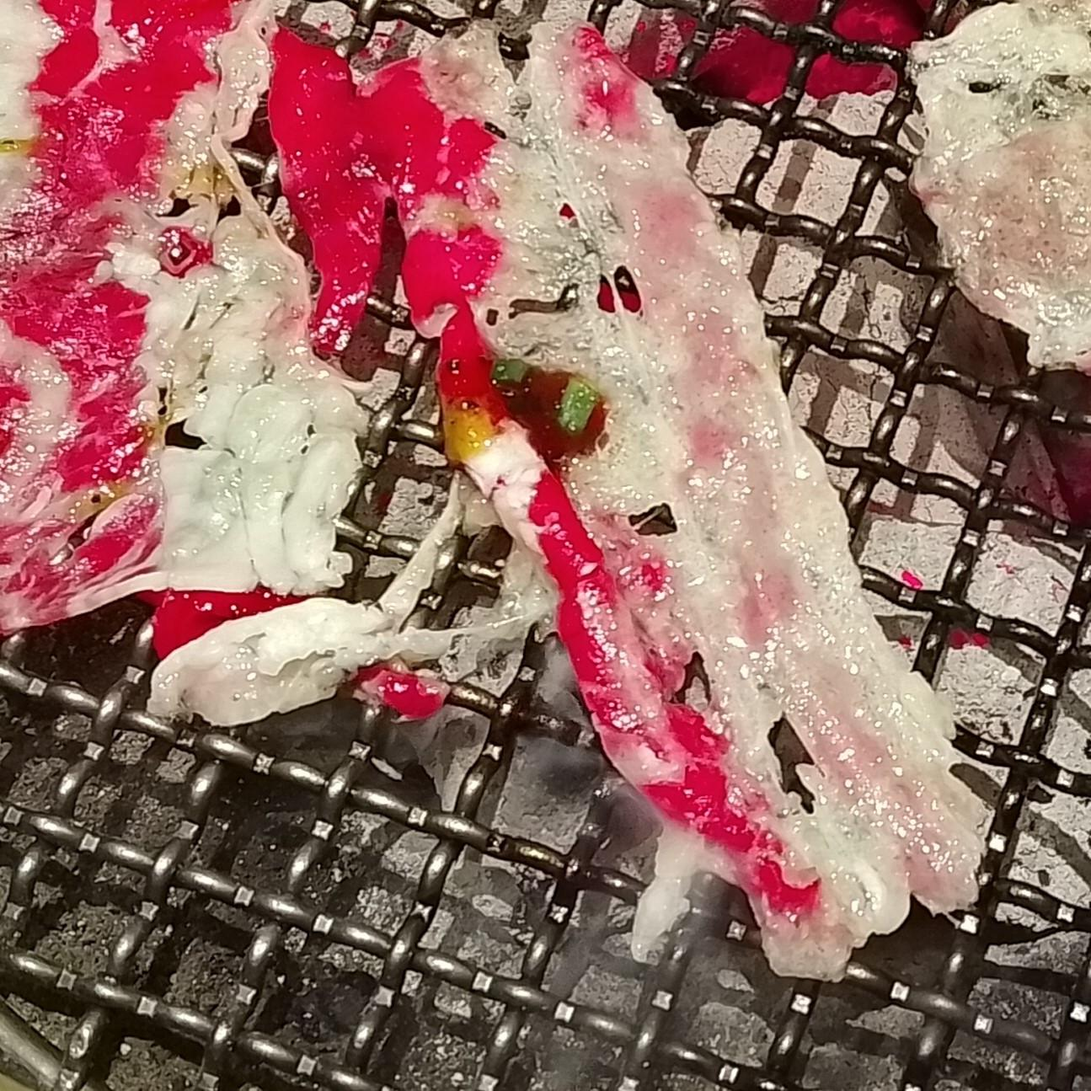Undercooked: (337, 23, 984, 978), (0, 0, 386, 725)
Well-Cooked: (910, 112, 1090, 374)
